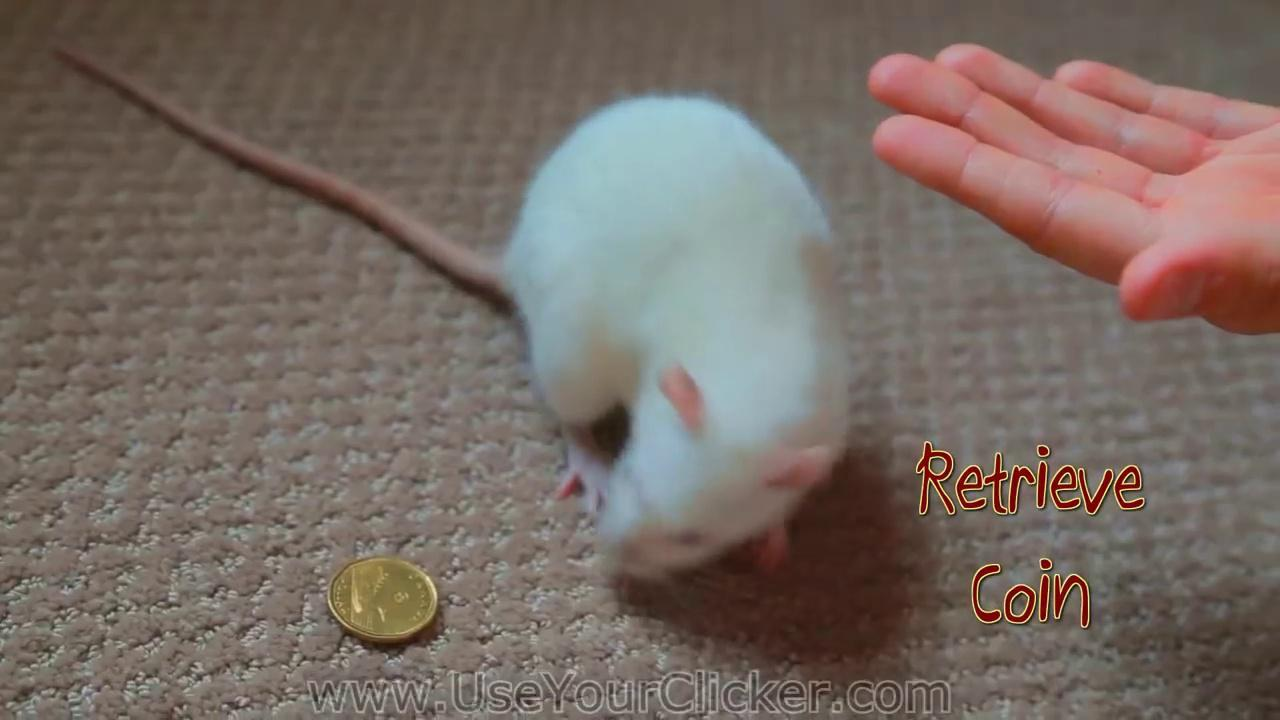rat: (55, 43, 853, 578)
